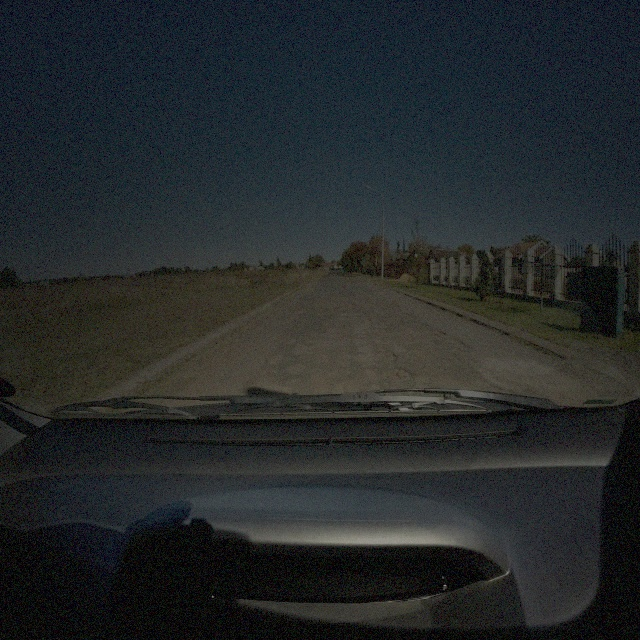pothole: (384, 371, 412, 383), (376, 349, 398, 362), (427, 327, 446, 340), (448, 338, 464, 351)
